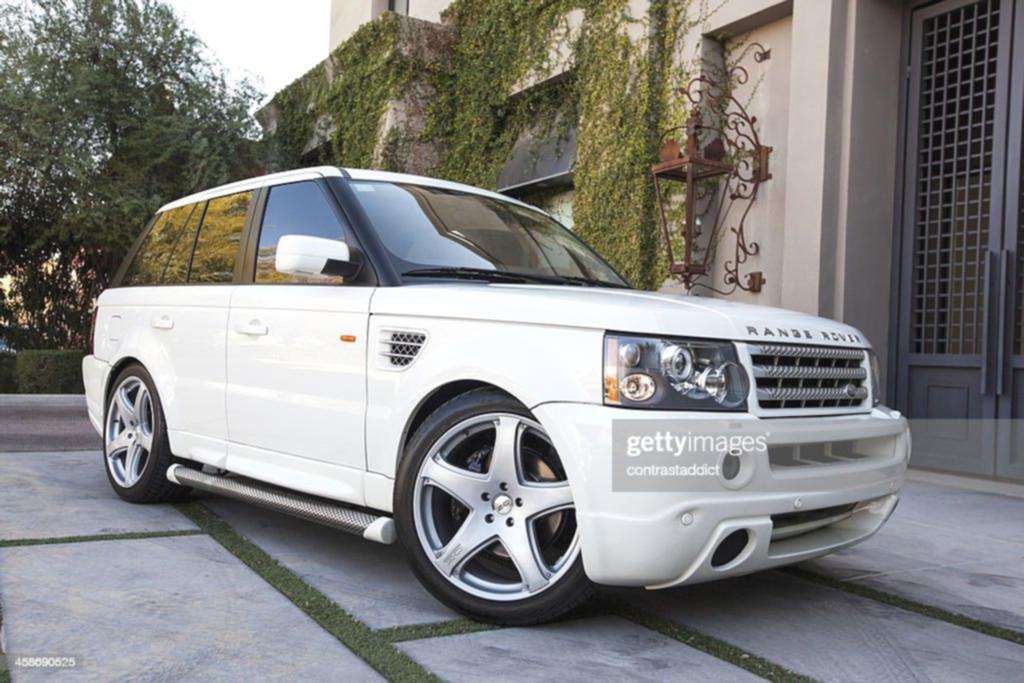range rover: (740, 318, 866, 355)
